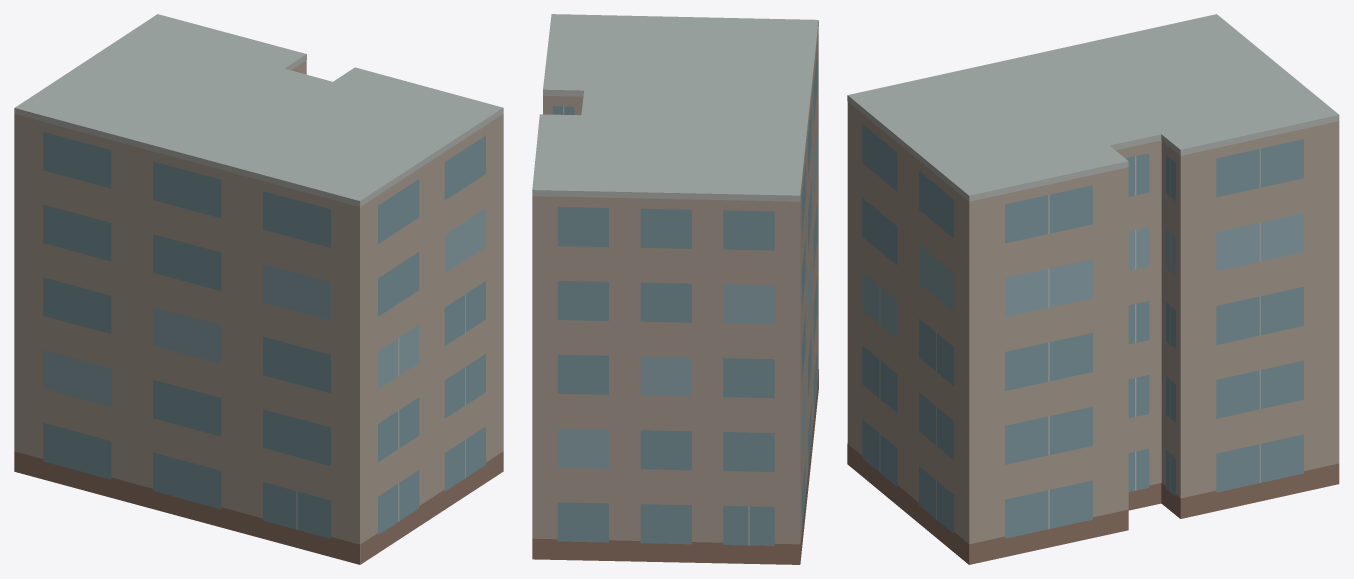
File: survey-upis-32979100.glb
3 views of the same model, side by side, from view 1: azimuth 30°, elevation 25°; view 2: azimuth 150°, elevation 25°; view 3: azimuth 270°, elevation 25° (orthographic).
Parts seen in each view (by area): view 1: survey-upis-32979100.tmp; view 2: survey-upis-32979100.tmp; view 3: survey-upis-32979100.tmp.
Part boxes in pixels (x1=…): survey-upis-32979100.tmp: x1=14, y1=14, x2=503, y2=564; survey-upis-32979100.tmp: x1=532, y1=14, x2=818, y2=564; survey-upis-32979100.tmp: x1=847, y1=14, x2=1339, y2=564.
Size of the model in its own units: 15.58 by 14.75 by 17.82.
